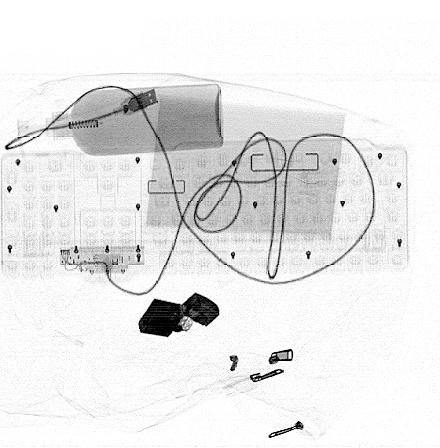Lighter: (138, 292, 220, 338)
